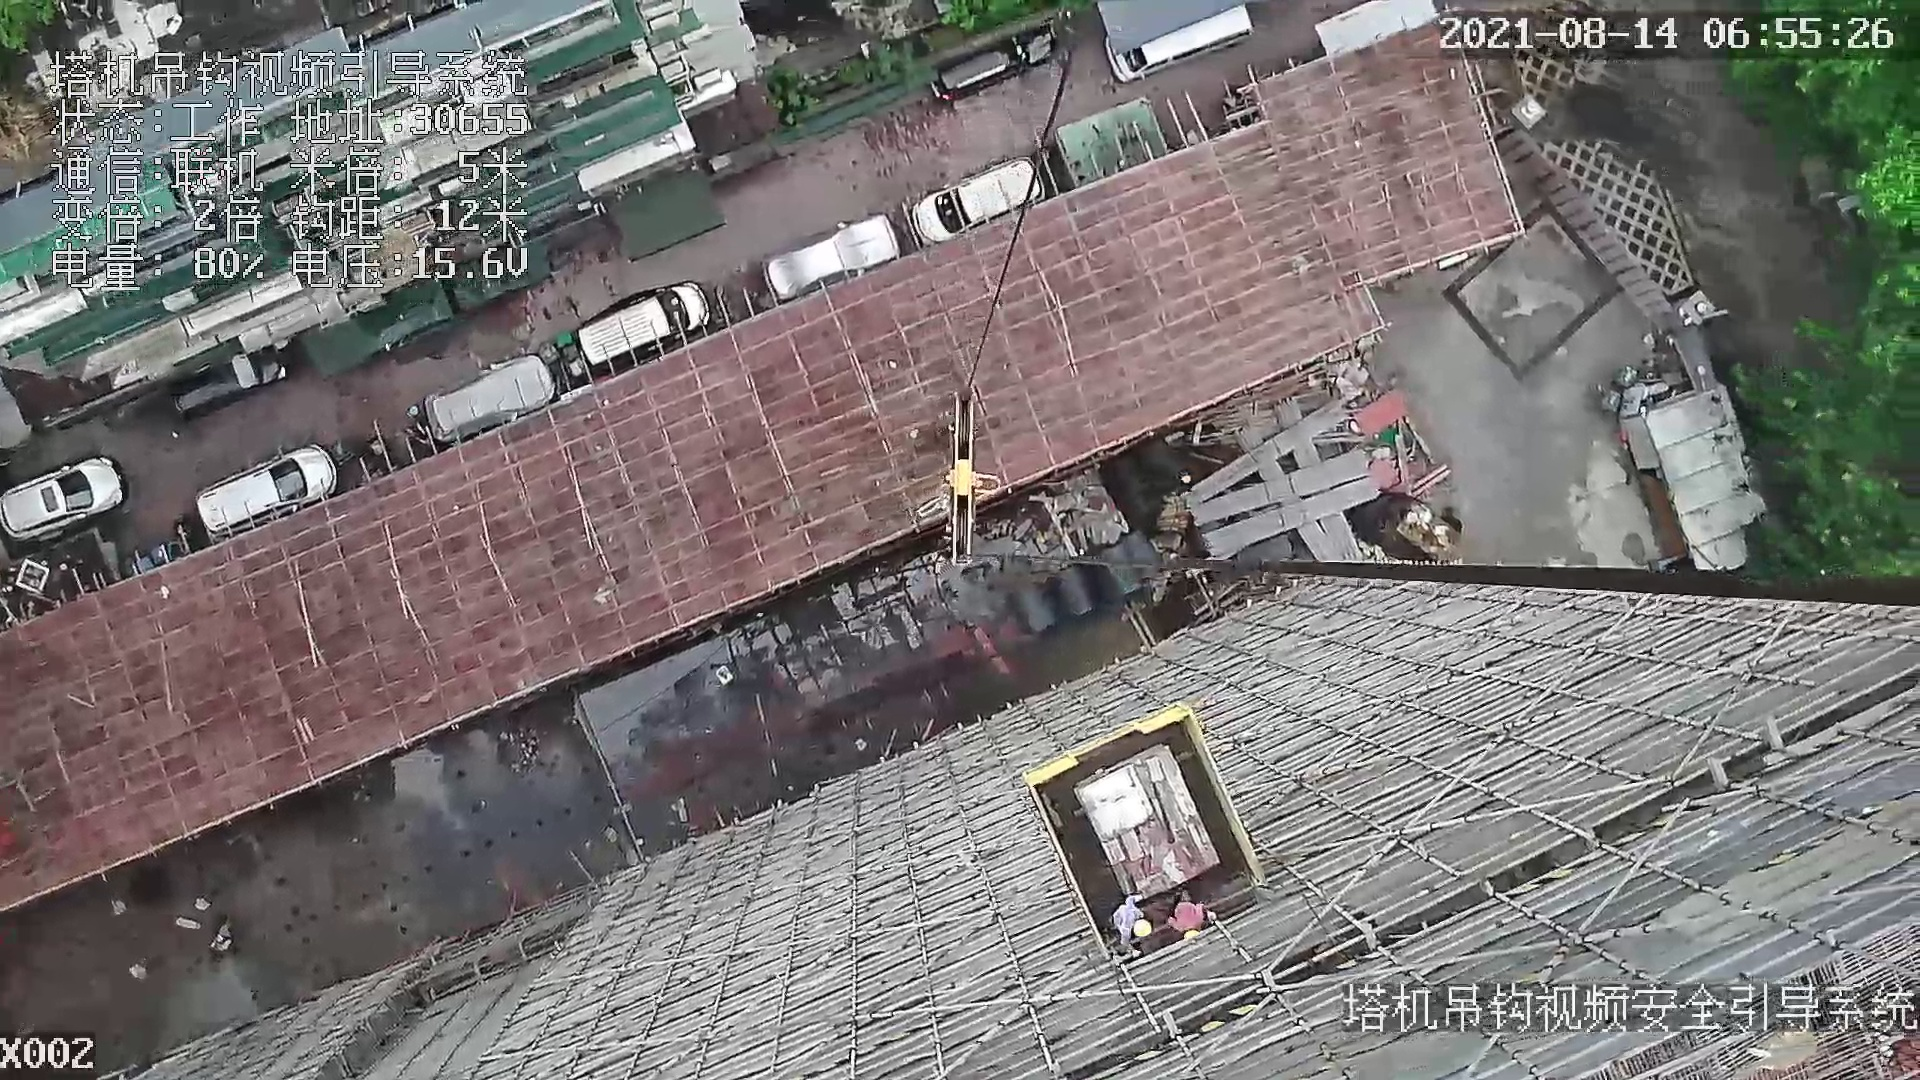board: (1070, 746, 1219, 901)
helmet: (1133, 919, 1151, 936), (1182, 930, 1199, 938)
hook: (938, 389, 999, 565)
person: (1105, 895, 1156, 954), (1178, 894, 1210, 947)
rebar: (1190, 400, 1346, 504), (1188, 445, 1370, 526), (1202, 476, 1379, 558), (1320, 512, 1365, 560), (1298, 520, 1336, 560)
